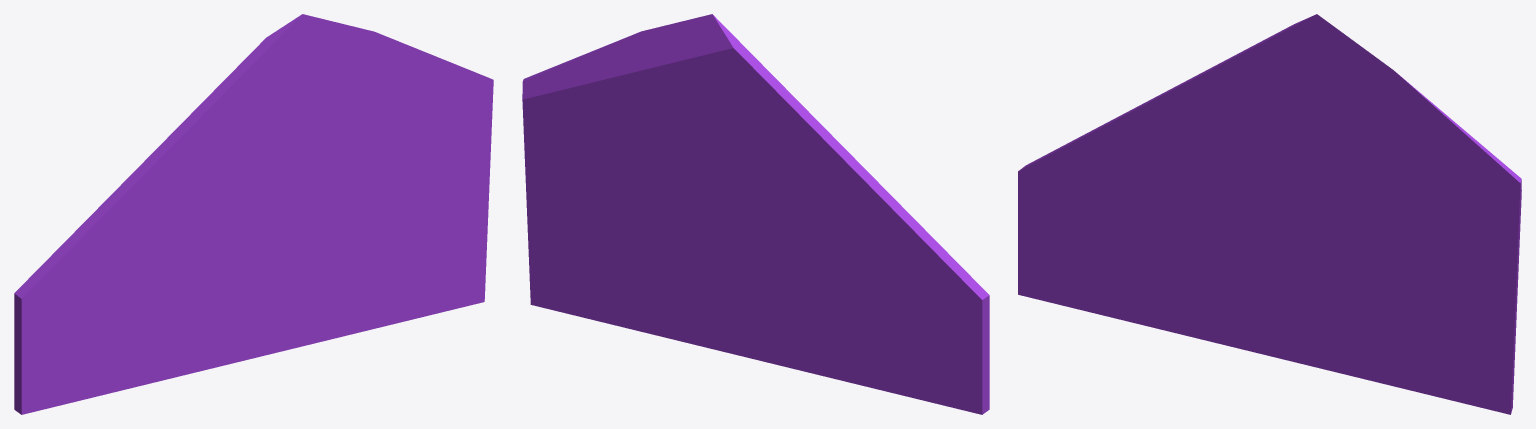
File: Glass_79_17_chunks.fbx
3 renders of one model, left to right at view 1: azimuth 30°, elevation 25°; view 2: azimuth 150°, elevation 25°; view 3: azimuth 330°, elevation 25°, orthographic. The views are drawn at different scales.
Visible parts, largest first — view 1: Glass_79_17_1, Glass_79_17_4, Glass_79_17_5, Glass_79_17_6, Glass_79_17_11, Glass_79_17_12, Glass_79_17_2, Glass_79_17_10, Glass_79_17_8, Glass_79_17_9, Glass_79_17_7, Glass_79_17_3; view 2: Glass_79_17_1, Glass_79_17_5, Glass_79_17_11, Glass_79_17_6, Glass_79_17_4, Glass_79_17_2, Glass_79_17_12, Glass_79_17_8, Glass_79_17_9, Glass_79_17_0, Glass_79_17_10; view 3: Glass_79_17_4, Glass_79_17_1, Glass_79_17_5, Glass_79_17_6, Glass_79_17_12, Glass_79_17_11, Glass_79_17_2, Glass_79_17_10, Glass_79_17_8, Glass_79_17_9, Glass_79_17_7, Glass_79_17_3.
Boxes of the visible parts, x1,y1,x2,y2 form: Glass_79_17_1: (14,182,151,414); Glass_79_17_4: (123,84,292,256); Glass_79_17_5: (172,197,349,378); Glass_79_17_6: (321,193,488,341); Glass_79_17_11: (222,14,379,148); Glass_79_17_12: (362,33,493,179); Glass_79_17_2: (70,248,258,402); Glass_79_17_10: (266,111,383,197); Glass_79_17_8: (340,179,489,235); Glass_79_17_9: (380,132,478,188); Glass_79_17_7: (305,193,380,257); Glass_79_17_3: (150,233,177,272); Glass_79_17_1: (844,186,989,414); Glass_79_17_5: (655,198,841,380); Glass_79_17_11: (632,14,781,159); Glass_79_17_6: (526,204,685,342); Glass_79_17_4: (756,84,881,261); Glass_79_17_2: (756,253,932,402); Glass_79_17_12: (522,33,640,167); Glass_79_17_8: (525,181,698,253); Glass_79_17_9: (525,113,659,194); Glass_79_17_0: (712,91,789,252); Glass_79_17_10: (654,130,735,199); Glass_79_17_4: (1134,50,1305,240); Glass_79_17_1: (1018,105,1156,307); Glass_79_17_5: (1178,204,1366,372); Glass_79_17_6: (1336,290,1517,414); Glass_79_17_12: (1380,75,1521,286); Glass_79_17_11: (1242,14,1398,148); Glass_79_17_2: (1070,207,1269,333); Glass_79_17_10: (1279,139,1403,242); Glass_79_17_8: (1357,224,1518,301); Glass_79_17_9: (1399,180,1518,281); Glass_79_17_7: (1320,210,1400,297); Glass_79_17_3: (1155,168,1184,211).
Bounding box in the file's own units: 1005 × 676 × 27.2.
